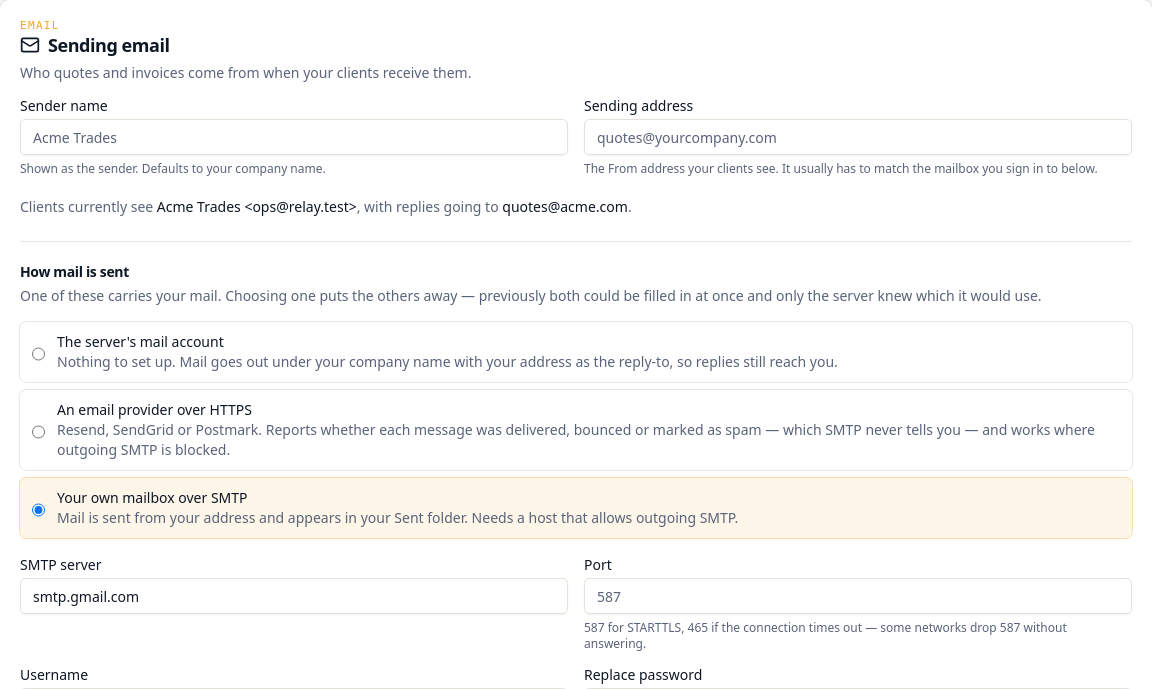
saving a choice › ignores anything that is not a digit in the port
Type "4a6b5" into the field labelled "Port" at (858, 596), box [584,578,1132,614]
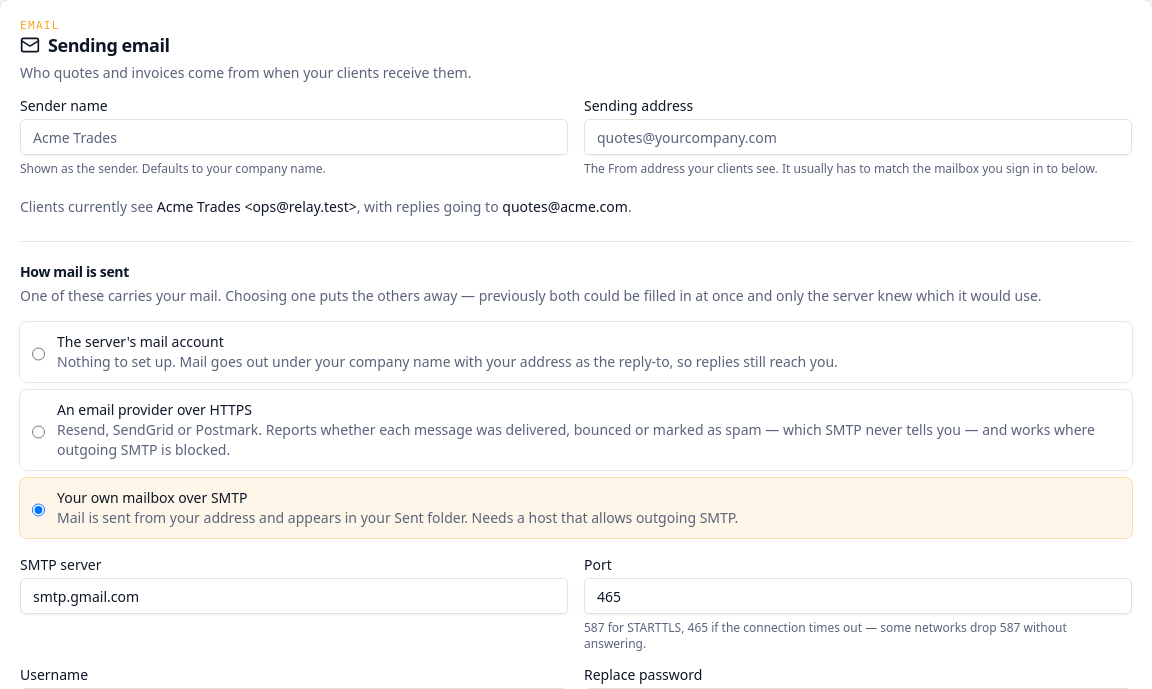
Expected: the field labelled "Port" holds "465", [584,578,1132,614]
